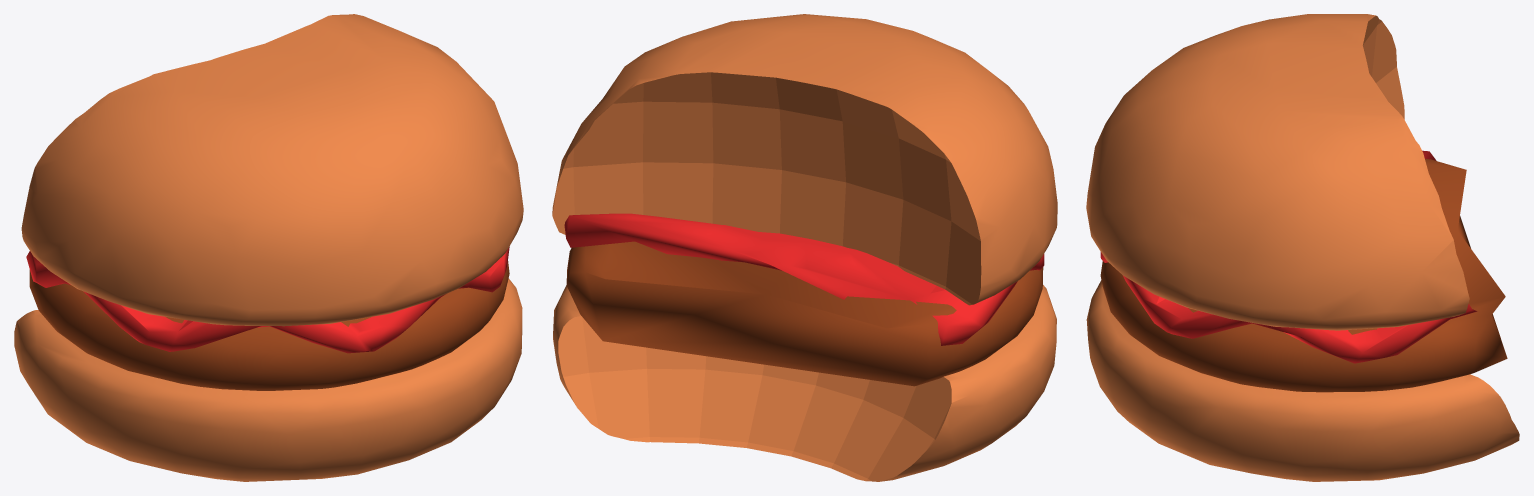
The model's file is burger_bite02.glb.
The picture shows the model from 3 angles, left to right: view 1: azimuth 30°, elevation 25°; view 2: azimuth 150°, elevation 25°; view 3: azimuth 270°, elevation 25°; orthographic projection.
Visible parts, largest first — view 1: burgar_bite02; view 2: burgar_bite02; view 3: burgar_bite02.
Boxes of the visible parts, box(x1,y1,x2,y2) form: burgar_bite02: box(14, 14, 523, 481); burgar_bite02: box(552, 14, 1057, 481); burgar_bite02: box(1086, 14, 1519, 481).
Size of the model in its own units: 0.2227 by 0.1626 by 0.1925.
